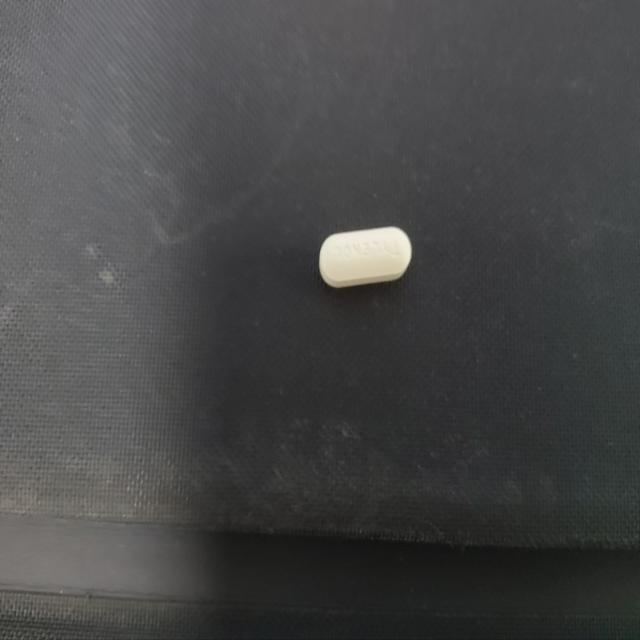-: (314, 218, 418, 292)
